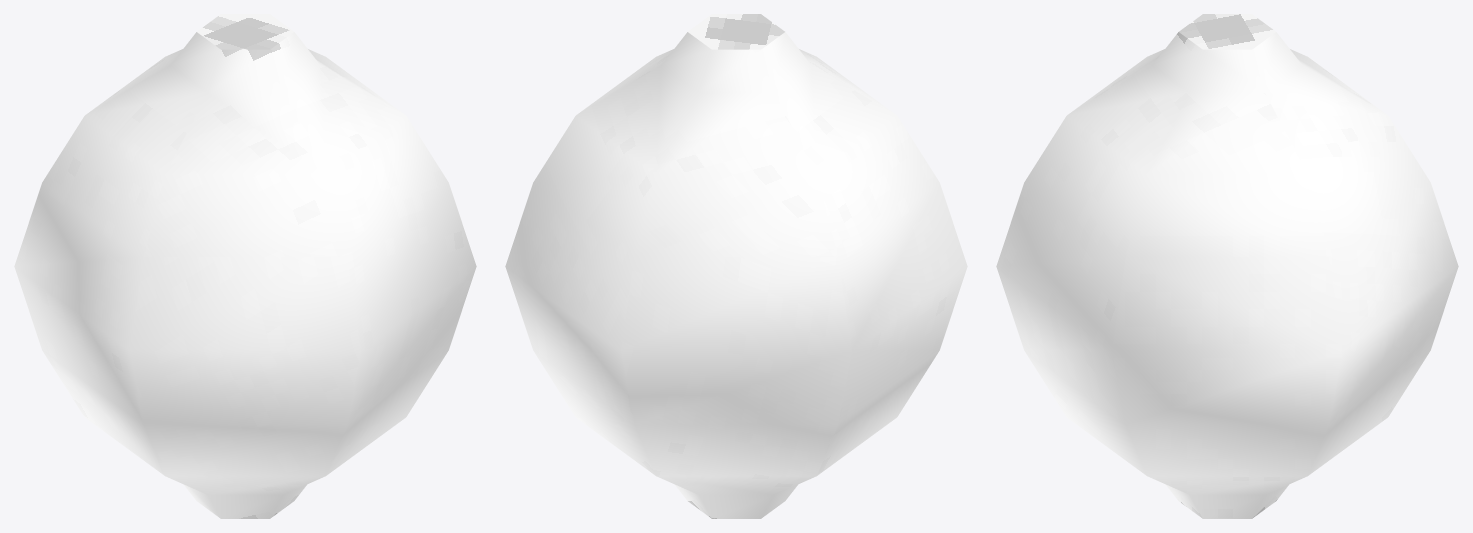
File: Lemon.glb
3 views of the same model, side by side, from view 1: azimuth 30°, elevation 25°; view 2: azimuth 150°, elevation 25°; view 3: azimuth 270°, elevation 25° (orthographic).
Visible parts, largest first — view 1: Lemon; view 2: Lemon; view 3: Lemon.
Boxes of the visible parts, x1=… form: Lemon: x1=14, y1=14, x2=476, y2=518; Lemon: x1=505, y1=14, x2=967, y2=518; Lemon: x1=996, y1=14, x2=1458, y2=518.
Size of the model in its own units: 0.0779 by 0.1007 by 0.09.
1 material, 1 textured.
